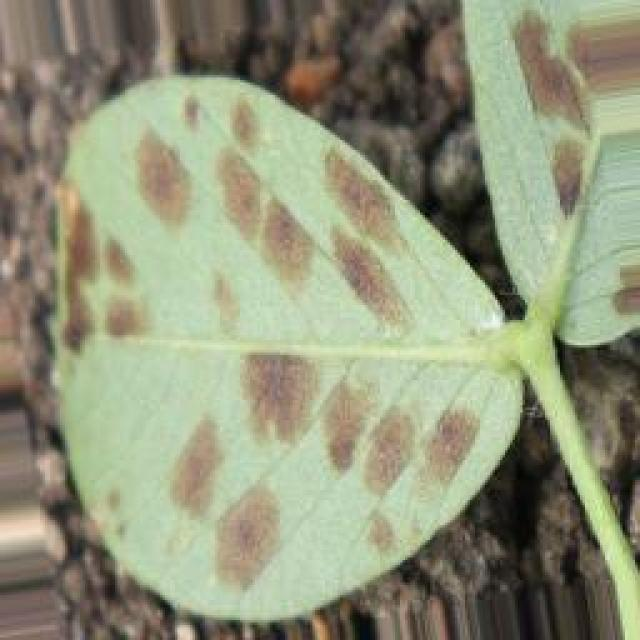Whitefly: (52, 0, 640, 588)
